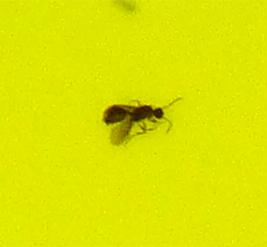Hymenoptera: (100, 100, 167, 147)
